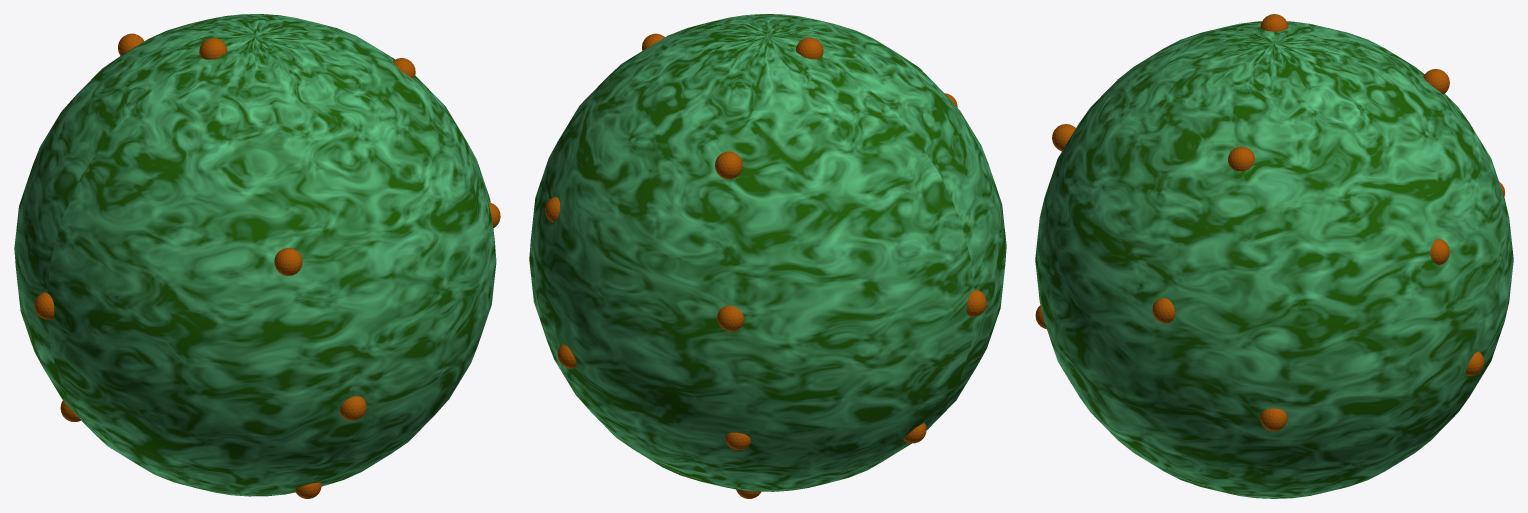
Rendered from lysosome.glb.
The picture shows the model from 3 angles, left to right: view 1: azimuth 30°, elevation 25°; view 2: azimuth 150°, elevation 25°; view 3: azimuth 270°, elevation 25°; orthographic projection.
Parts seen in each view (by area): view 1: Lysosomes-material, Icosphere.010; view 2: Lysosomes-material, Icosphere.007, Icosphere.011; view 3: Lysosomes-material, Icosphere.017, Icosphere.019.
Part boxes in pixels (left/top/right/bottom): Lysosomes-material: left=14, top=14, right=496, bottom=496; Icosphere.010: left=274, top=248, right=302, bottom=275; Lysosomes-material: left=529, top=14, right=1006, bottom=491; Icosphere.007: left=715, top=151, right=742, bottom=179; Icosphere.011: left=717, top=305, right=743, bottom=331; Lysosomes-material: left=1035, top=21, right=1513, bottom=498; Icosphere.017: left=1228, top=146, right=1254, bottom=170; Icosphere.019: left=1260, top=408, right=1287, bottom=431.
Size of the model in its own units: 2.05 by 2.03 by 2.
2 materials, 1 textured.
